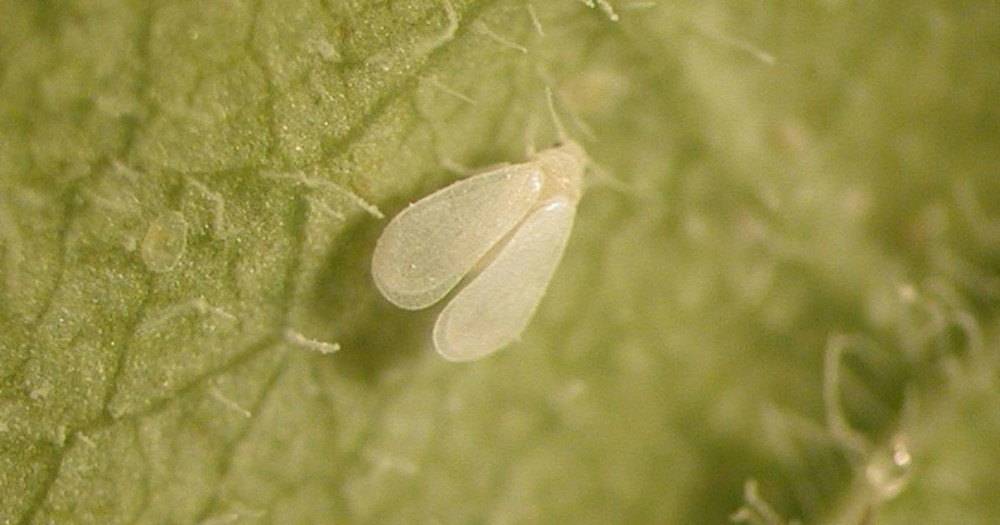Mosca Blanca: (370, 87, 642, 375)
